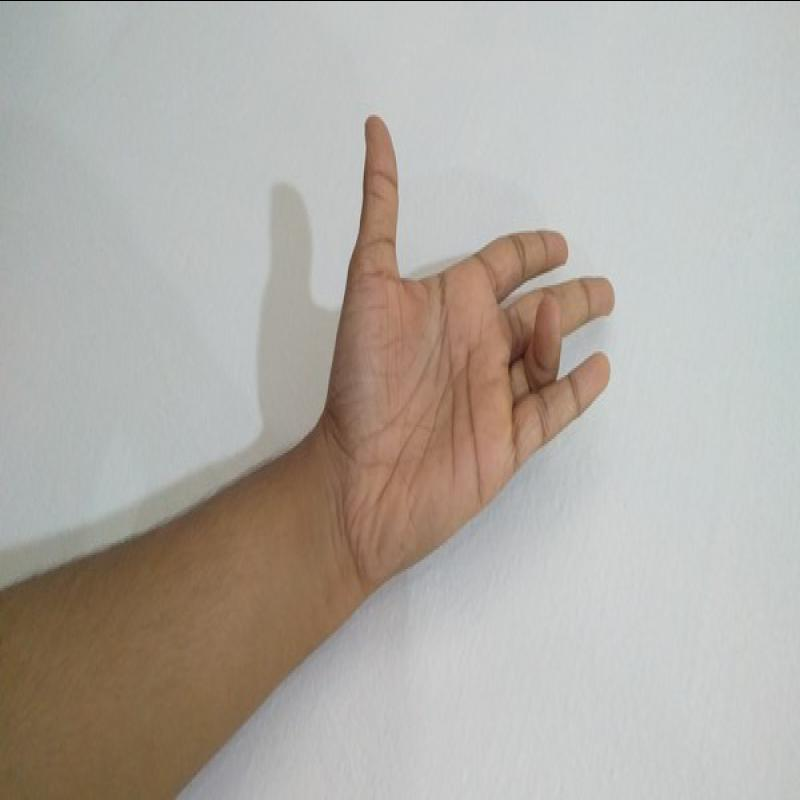Pathaaka: (313, 110, 632, 592)
